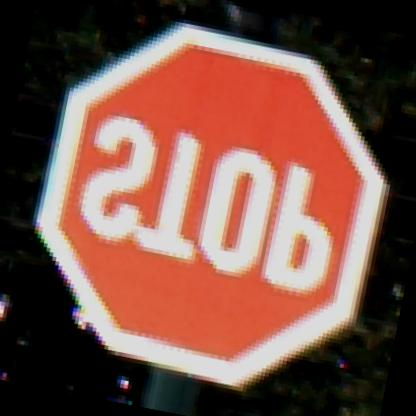stop: (8, 5, 415, 416)
